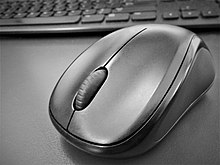mouse: (40, 19, 213, 156)
